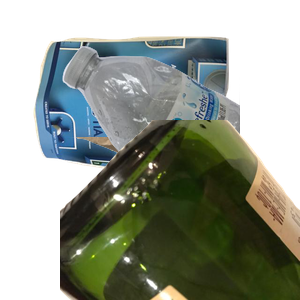glass: (60, 120, 300, 300)
paper: (31, 34, 252, 205)
plastic: (60, 44, 300, 224)
trash: (66, 137, 263, 300)
